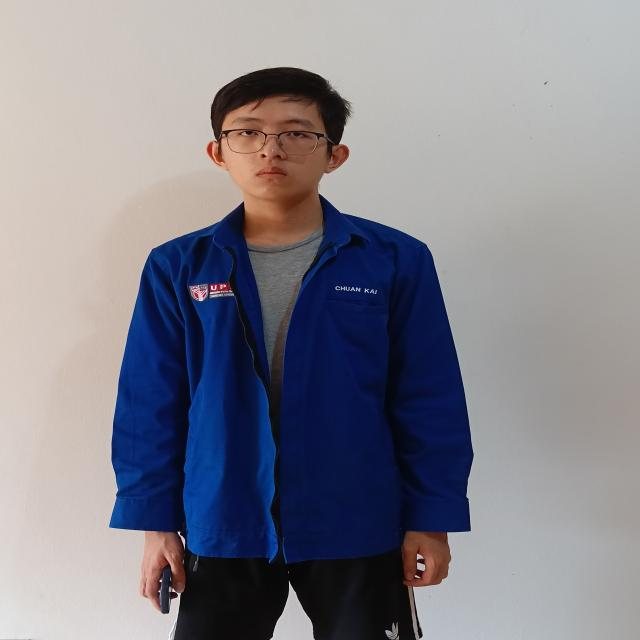person_with_labcoat: (110, 68, 473, 640)
